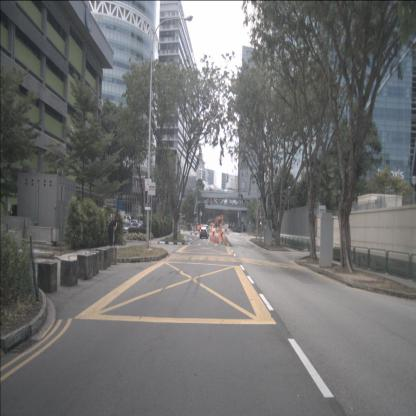barrier: (37, 260, 58, 294), (60, 255, 78, 287), (77, 252, 93, 280), (84, 248, 100, 274), (84, 249, 98, 276), (95, 246, 108, 270), (104, 243, 116, 265), (99, 246, 111, 267), (216, 227, 221, 233), (221, 227, 225, 233), (212, 227, 216, 233)
cone: (225, 235, 227, 245)
